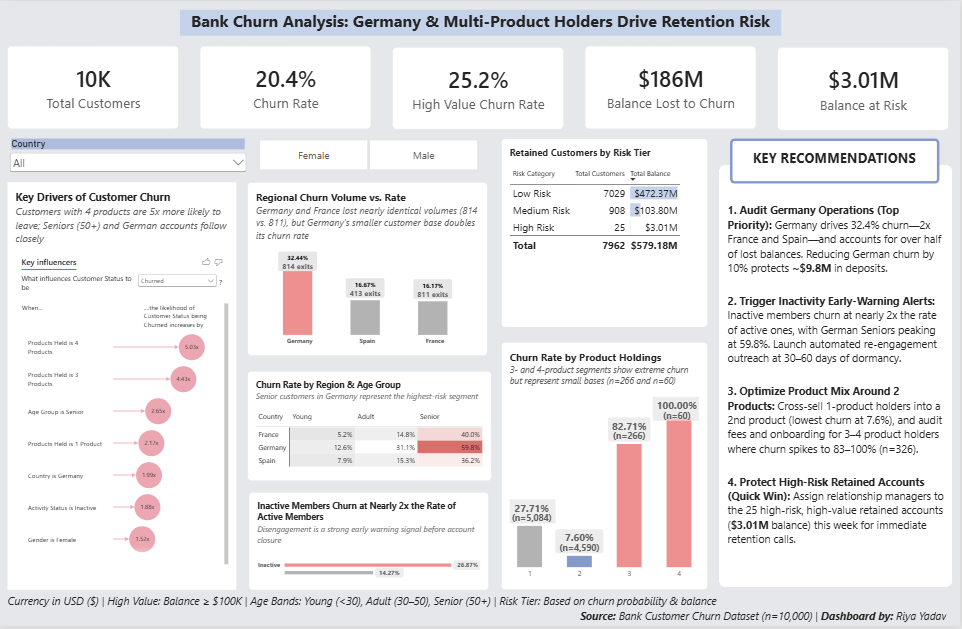

Layout of this report page (visuals, bound fields, positions):
{"tool":"powerbi","page":{"name":"Page 1","canvas":[1920,1250],"ordinal":0},"visuals":[{"type":"cardVisual","fields":{"Data":["BankCustomers.Total Customers"]},"box":[16,90,342,166],"z":0},{"type":"cardVisual","fields":{"Data":["BankCustomers.Churn Rate"]},"box":[400.5,90,342,166],"z":1000},{"type":"cardVisual","fields":{"Data":["BankCustomers.High Value Churn Rate"]},"box":[785,92,342,164],"z":2000},{"type":"cardVisual","fields":{"Data":["BankCustomers.Balance Lost to Churn"]},"box":[1169.5,90,342,166],"z":3000},{"type":"cardVisual","fields":{"Data":["BankCustomers.Balance at Risk"]},"box":[1554,92,342,166],"z":4000},{"type":"columnChart","title":"Regional Churn Volume vs. Rate","fields":{"Category":["BankCustomers.Geography"],"Y":["BankCustomers.Churn Rate"]},"box":[495,362.5,480,347.5],"z":5000},{"type":"clusteredColumnChart","title":"Churn Rate by Product Holdings","fields":{"Category":["BankCustomers.NumOfProducts"],"Y":["BankCustomers.Churn Rate"]},"box":[1002.5,682.5,412.5,495],"z":6000},{"type":"tableEx","title":"Retained Customers by Risk Tier","fields":{"Values":["BankCustomers.Risk Category","BankCustomers.Total Customers","BankCustomers.Total Balance"]},"box":[1002.5,275,412.5,377.5],"z":7000},{"type":"keyDriversVisual","title":"Key Drivers of Customer Churn","fields":{"ExplainBy":["BankCustomers.AgeGroup","BankCustomers.Geography","BankCustomers.Activity Status","BankCustomers.Product Tier","BankCustomers.Gender"],"Target":["BankCustomers.Customer Status"]},"box":[15,362.5,457.5,815],"z":8000},{"type":"pivotTable","title":"Churn Rate by Region & Age Group","fields":{"Columns":["BankCustomers.AgeGroup"],"Rows":["BankCustomers.Geography"],"Values":["BankCustomers.Churn Rate"]},"box":[495,740,488,220],"z":9000},{"type":"barChart","title":"Inactive Members Churn at Nearly 2x the Rate of Active Members","fields":{"Category":["BankCustomers.Activity Status"],"Y":["BankCustomers.Churn Rate"]},"box":[497.5,982.5,480,196],"z":10000},{"type":"slicer","fields":{"Values":["BankCustomers.Geography"]},"box":[15,275,482.5,87.5],"z":11000},{"type":"shape","box":[1437.5,327.5,467.5,845],"z":11000,"group":"g1"},{"type":"slicer","title":"Gender","fields":{"Values":["BankCustomers.Gender"]},"box":[497.5,275,477.5,65],"z":12000},{"type":"textbox","box":[1453.7,385,437.5,745],"z":12000,"group":"g1"},{"type":"shape","box":[1459.6,275,418.8,90.2],"z":13000,"group":"g1"},{"type":"textbox","box":[1486.2,296,367.6,46.1],"z":14000,"group":"g1"},{"type":"textbox","box":[359,18,1202,52],"z":16000},{"type":"group","id":"g1","title":"Group 1","box":[1437.5,275,467.5,897.5],"z":16001},{"type":"textbox","box":[15,1185,1877.5,65],"z":16002}]}

Visuals, with their boxes in screenshot pixels (x1, y1, x2, y2), scaled from the page's 1920x1250 canvas onto the 962x629 screenshot:
cardVisual - BankCustomers.Total Customers: detection(8, 45, 179, 129)
cardVisual - BankCustomers.Churn Rate: detection(201, 45, 372, 129)
cardVisual - BankCustomers.High Value Churn Rate: detection(393, 46, 565, 129)
cardVisual - BankCustomers.Balance Lost to Churn: detection(586, 45, 757, 129)
cardVisual - BankCustomers.Balance at Risk: detection(779, 46, 950, 130)
"Regional Churn Volume vs. Rate" columnChart: detection(248, 182, 489, 357)
"Churn Rate by Product Holdings" clusteredColumnChart: detection(502, 343, 709, 593)
"Retained Customers by Risk Tier" tableEx: detection(502, 138, 709, 328)
"Key Drivers of Customer Churn" keyDriversVisual: detection(8, 182, 237, 593)
"Churn Rate by Region & Age Group" pivotTable: detection(248, 372, 493, 483)
"Inactive Members Churn at Nearly 2x the Rate of Active Members" barChart: detection(249, 494, 490, 593)
slicer - BankCustomers.Geography: detection(8, 138, 249, 182)
shape: detection(720, 165, 954, 590)
"Gender" slicer: detection(249, 138, 489, 171)
textbox: detection(728, 194, 948, 569)
shape: detection(731, 138, 941, 184)
textbox: detection(745, 149, 929, 172)
textbox: detection(180, 9, 782, 35)
"Group 1" group: detection(720, 138, 954, 590)
textbox: detection(8, 596, 948, 628)
